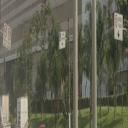speed_limit_50: (8, 24, 11, 50), (115, 13, 118, 29)
speed_limit_60: (4, 21, 7, 47)
